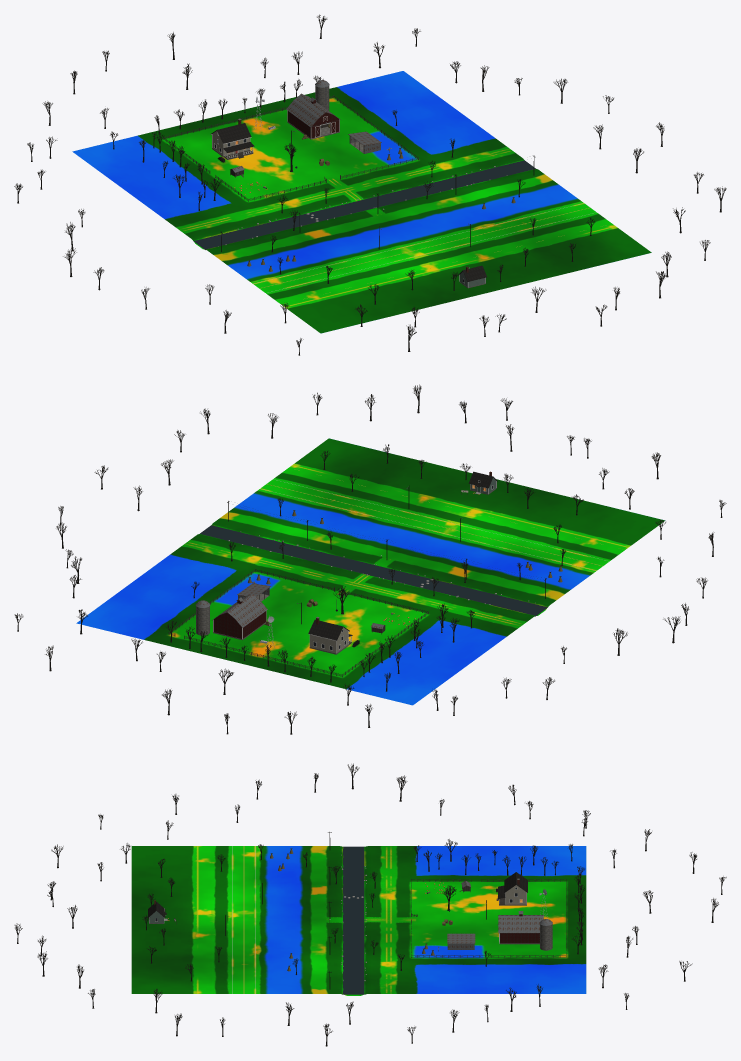
File: world.glb
3 renders of one model, top to bottom at view 1: azimuth 30°, elevation 25°; view 2: azimuth 150°, elevation 25°; view 3: azimuth 270°, elevation 25°, orthographic. The views are drawn at different scales.
Visible parts, largest first — view 1: ground_s, ground_n, trees, water, static_buildings, fences, static_props, road_paint, static_south; view 2: ground_s, ground_n, trees, water, static_buildings, fences, static_props, road_paint, static_south; view 3: ground_s, ground_n, trees, water, static_buildings, fences, static_props, road_paint, static_south.
Part boxes in pixels (<box>): ground_s: <box>199,169,651,333</box>; ground_n: <box>72,71,524,246</box>; trees: <box>14,14,726,355</box>; water: <box>193,160,535,249</box>; static_buildings: <box>210,80,381,159</box>; fences: <box>163,95,418,201</box>; static_props: <box>217,126,535,271</box>; road_paint: <box>253,203,606,304</box>; static_south: <box>218,166,507,288</box>; ground_s: <box>211,438,665,612</box>; ground_n: <box>76,534,541,705</box>; trees: <box>14,384,726,734</box>; water: <box>200,525,547,616</box>; static_buildings: <box>195,583,352,654</box>; fences: <box>168,569,428,677</box>; static_props: <box>227,485,562,647</box>; road_paint: <box>260,469,623,570</box>; static_south: <box>228,471,535,604</box>; ground_s: <box>131,846,353,995</box>; ground_n: <box>354,846,586,995</box>; trees: <box>14,763,726,1046</box>; water: <box>342,846,365,994</box>; static_buildings: <box>447,872,552,950</box>; fences: <box>411,879,566,957</box>; static_props: <box>167,832,497,989</box>; road_paint: <box>232,846,255,993</box>; static_south: <box>148,854,366,981</box>.
Size of what is drawn, in the model's own units: 249 by 13.66 by 285.
34 materials, 14 textured.
